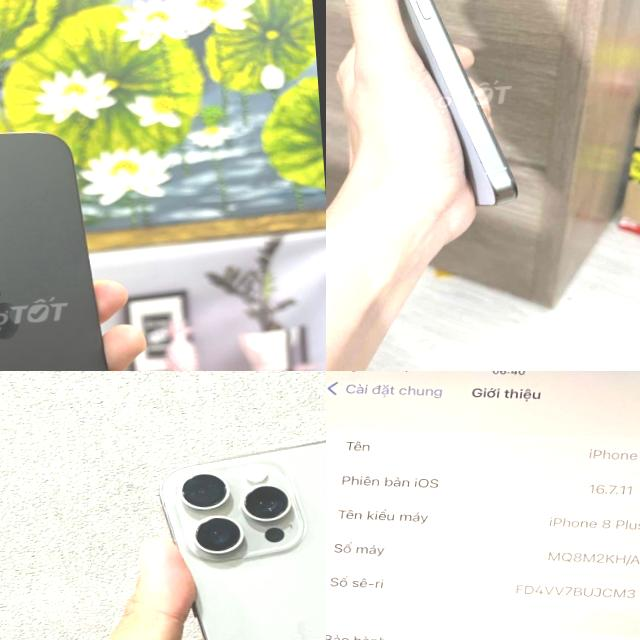gen_15: (341, 0, 529, 222), (144, 427, 326, 640), (0, 123, 137, 371)
gen_7_8: (326, 371, 640, 640)
scratch: (165, 462, 297, 556)
